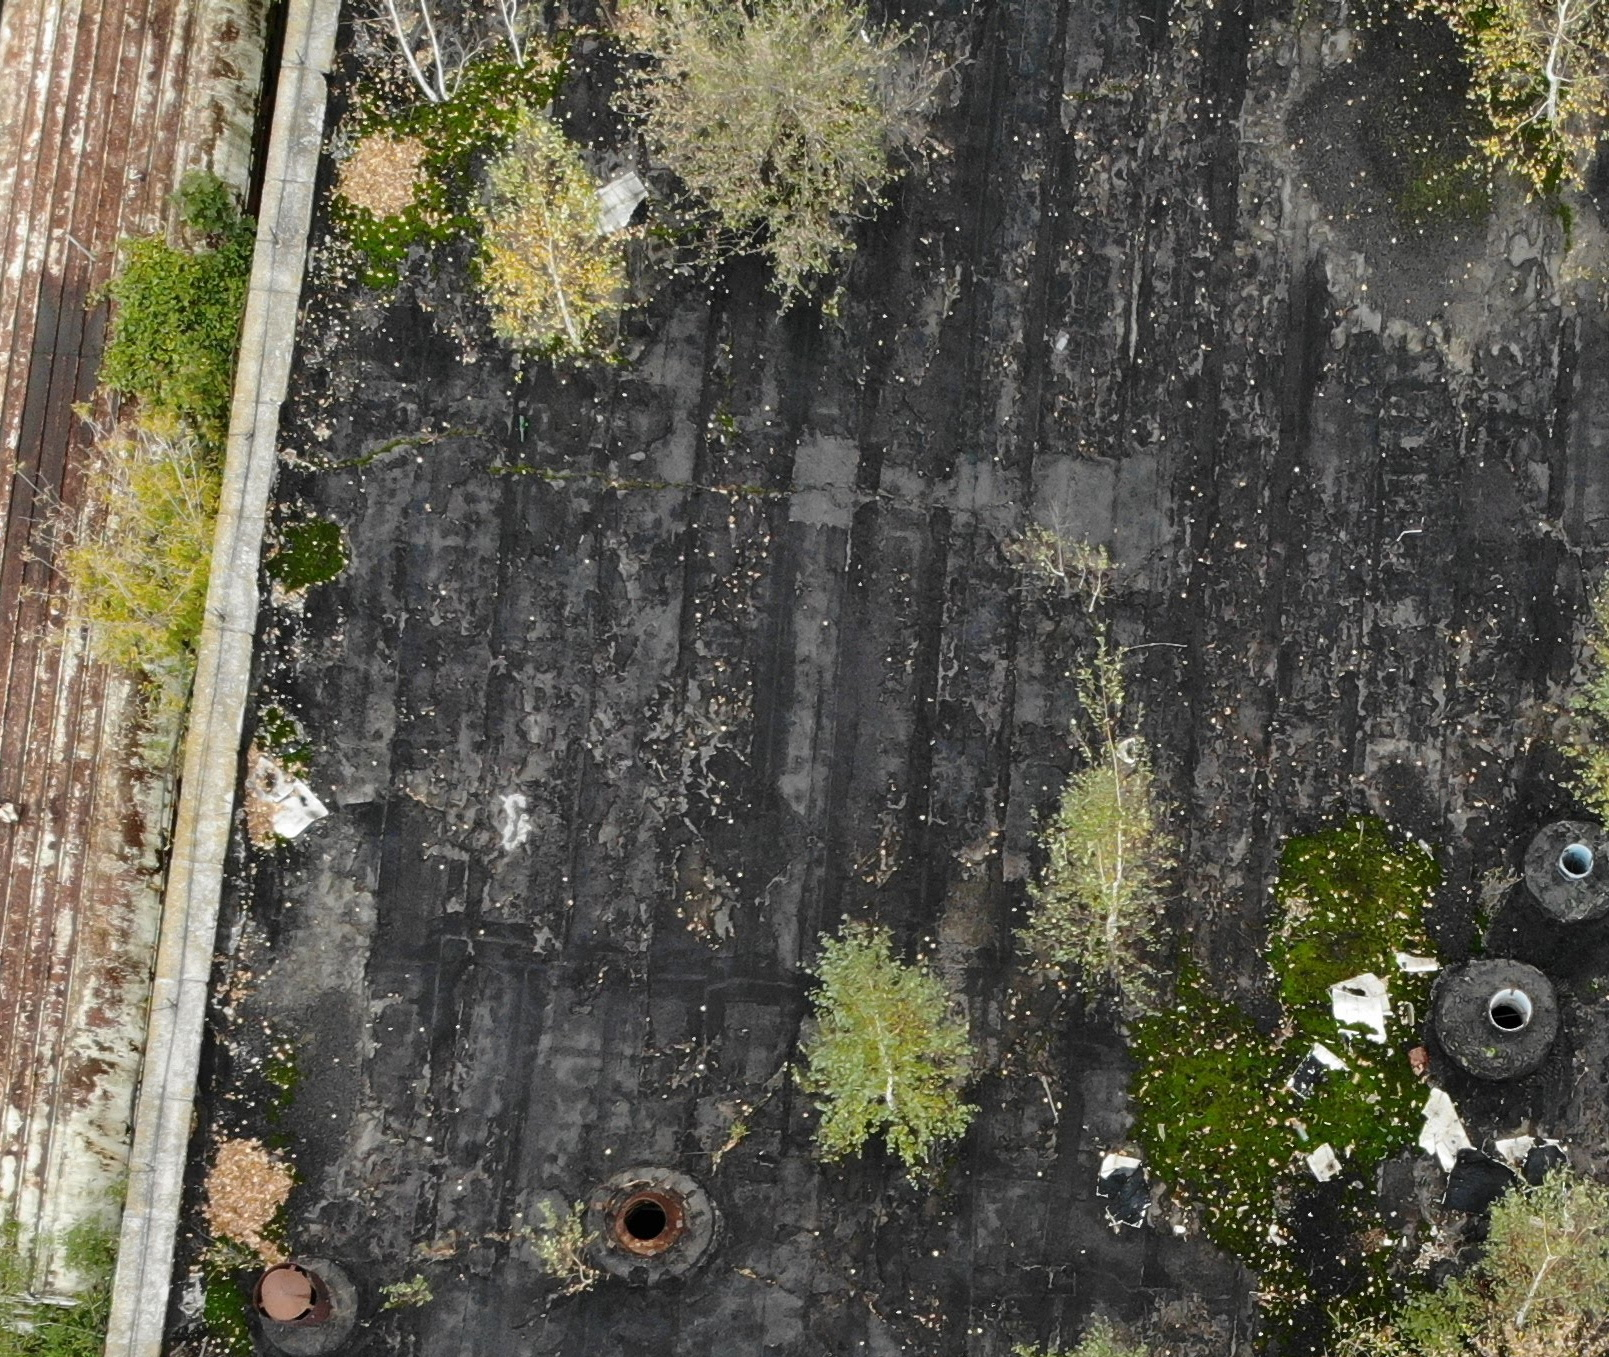tree: (596, 13, 980, 314), (1006, 607, 1214, 1043), (90, 145, 296, 448), (58, 382, 244, 704), (789, 875, 984, 1181), (1349, 1129, 1608, 1356), (460, 98, 645, 394), (141, 1090, 334, 1357), (1457, 7, 1604, 214), (994, 471, 1135, 646), (514, 1169, 618, 1321)
